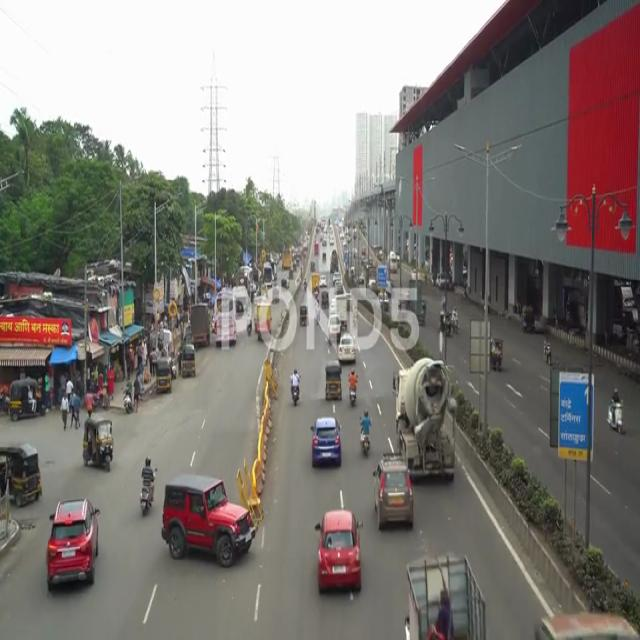car: (162, 480, 254, 566), (45, 496, 103, 592), (312, 508, 365, 596), (372, 463, 412, 531), (309, 414, 343, 470)
motorbike: (136, 449, 156, 524), (606, 378, 624, 440), (358, 409, 375, 457), (286, 366, 302, 408), (348, 369, 360, 407)
rikshaw: (0, 445, 44, 501), (80, 416, 113, 472), (323, 358, 343, 400), (491, 334, 507, 376)
truck: (391, 352, 462, 479)
